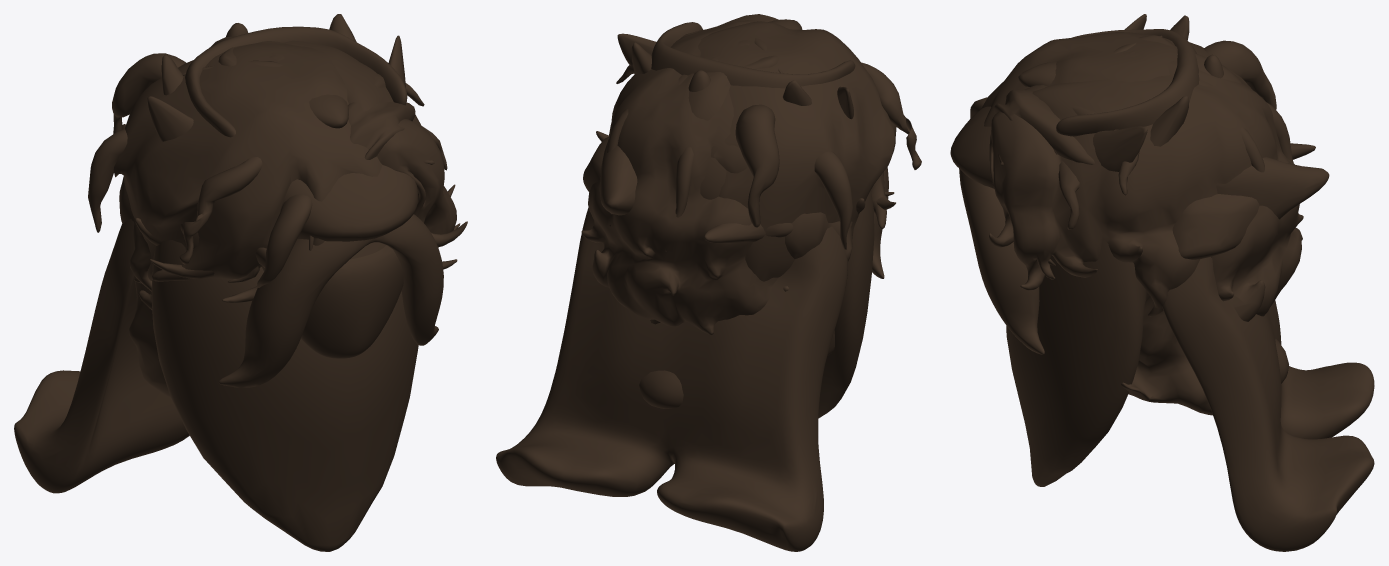
Rendered from hair_low.glb.
3 renders of one model, left to right at view 1: azimuth 30°, elevation 25°; view 2: azimuth 150°, elevation 25°; view 3: azimuth 270°, elevation 25°, orthographic. The views are drawn at different scales.
Visible parts, largest first — view 1: Man_Hair_130, Man_Hair_050, Man_Hair_110, Man_Hair_070, Man_Hair_001, Man_Hair_030; view 2: Man_Hair_050, Man_Hair_070, Man_Hair_110, Man_Hair_130, Man_Hair_010, Man_Hair_030, Man_Hair_090, Man_Hair_001; view 3: Man_Hair_050, Man_Hair_070, Man_Hair_130, Man_Hair_110, Man_Hair_030, Man_Hair_090, Man_Hair_010, Man_Hair_001.
Boxes of the visible parts, x1,y1,x2,y2 form: Man_Hair_130: (147,14,418,551); Man_Hair_050: (14,26,443,493); Man_Hair_110: (88,43,447,287); Man_Hair_070: (119,40,467,309); Man_Hair_001: (226,23,418,241); Man_Hair_030: (129,36,415,397); Man_Hair_050: (496,22,888,551); Man_Hair_070: (581,20,895,334); Man_Hair_110: (607,21,921,281); Man_Hair_130: (617,33,874,418); Man_Hair_010: (599,38,782,243); Man_Hair_030: (639,14,834,408); Man_Hair_090: (583,42,793,237); Man_Hair_001: (688,19,802,91); Man_Hair_050: (959,29,1374,551); Man_Hair_070: (989,52,1303,321); Man_Hair_130: (1006,14,1189,486); Man_Hair_110: (970,32,1293,278); Man_Hair_030: (994,35,1288,415); Man_Hair_090: (1129,51,1259,259); Man_Hair_010: (1113,35,1329,234); Man_Hair_001: (950,54,1223,188).
Bounding box in the file's own units: 0.2502 × 0.3376 × 0.3025.
